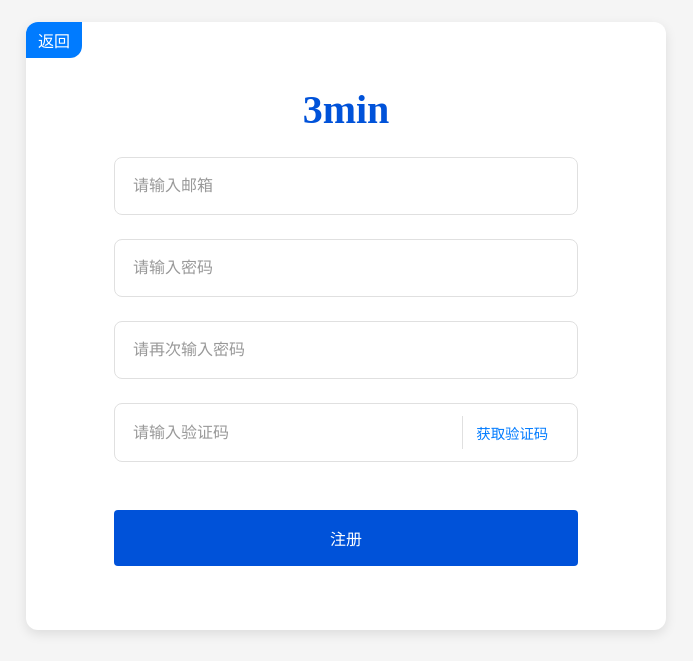
Register Page › 删除验证码内容时应显示错误提示
Type "8888" into the field with placeholder "请输入验证码" at {"x": 293, "y": 432}, box [131,422,454,442]
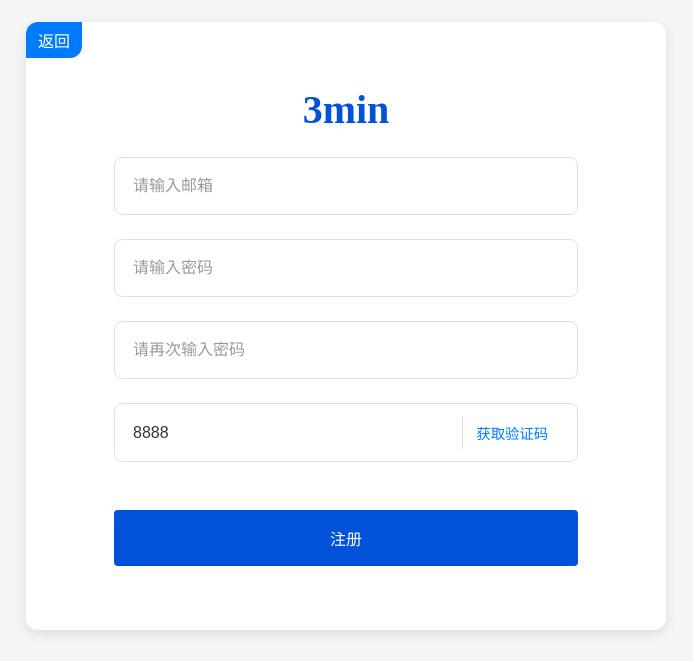
Expected: the text "请输入验证码" is not shown
Clear the field with placeholder "请输入验证码" at {"x": 293, "y": 432}, box [131,422,454,442]
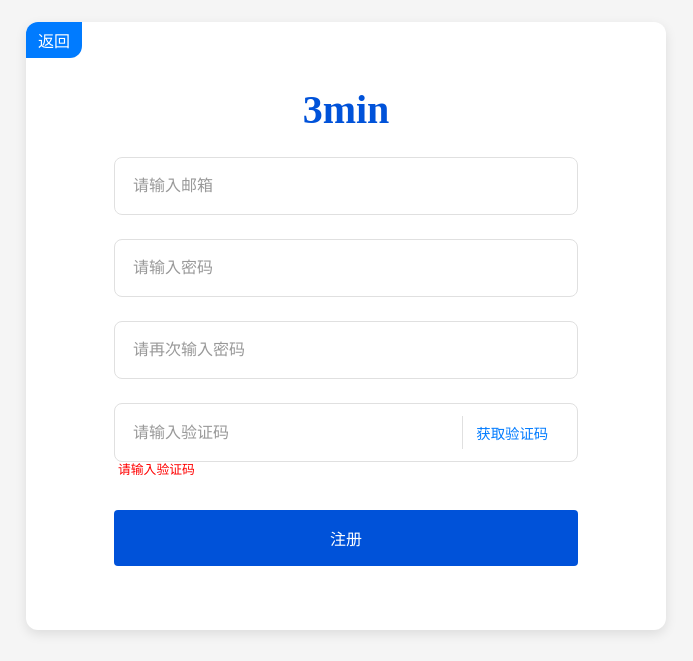
Expected: the text "请输入验证码" is shown, [118,463,195,477]
